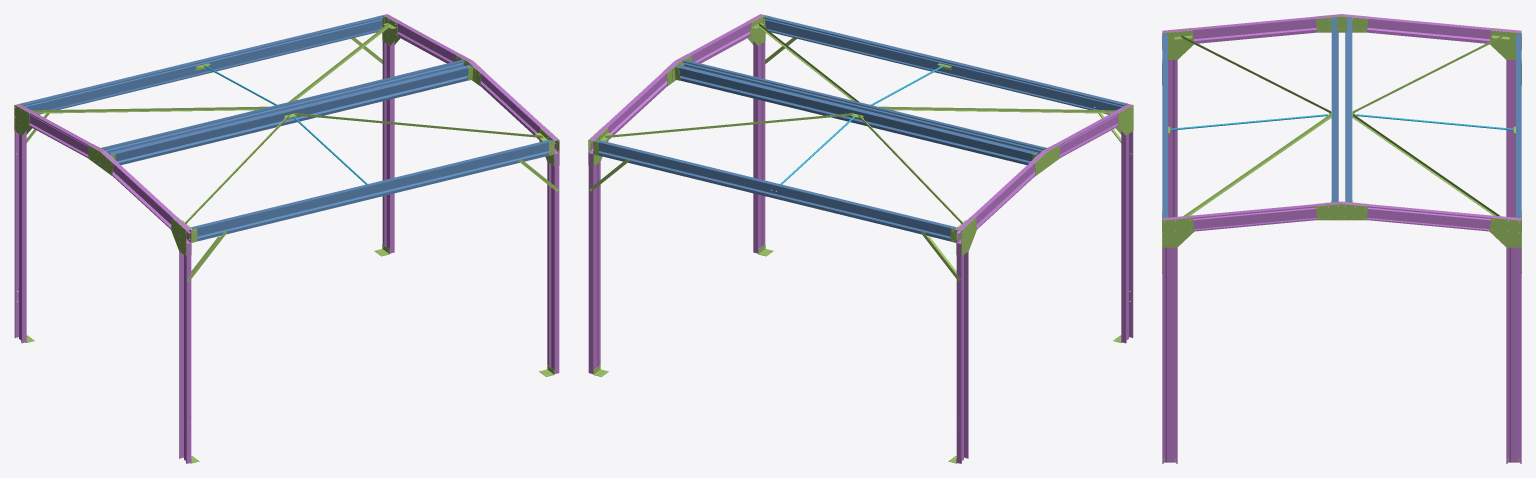
File: abri-bipente-4x5m.gltf
3 renders of one model, left to right at view 1: azimuth 30°, elevation 25°; view 2: azimuth 150°, elevation 25°; view 3: azimuth 270°, elevation 25°, orthographic. The views are drawn at different scales.
Parts seen in each view (by area): view 1: SOLID024, SOLID005, SOLID037, SOLID001, SOLID014, SOLID, SOLID044, SOLID013, SOLID023, SOLID031, SOLID002, SOLID015 (+2 smaller); view 2: SOLID005, SOLID024, SOLID044, SOLID, SOLID013, SOLID001, SOLID037, SOLID014, SOLID002, SOLID015, SOLID023, SOLID031 (+2 smaller); view 3: SOLID013, SOLID014, SOLID015, SOLID031, SOLID002, SOLID023, SOLID, SOLID001, SOLID037, SOLID044, SOLID005, SOLID024 (+12 smaller).
Boxes of the visible parts, x1,y1,x2,y2 form: SOLID024: [190, 139, 552, 241]; SOLID005: [21, 15, 383, 114]; SOLID037: [109, 64, 471, 164]; SOLID001: [179, 242, 191, 463]; SOLID014: [547, 153, 559, 373]; SOLID: [14, 125, 26, 343]; SOLID044: [101, 60, 464, 155]; SOLID013: [382, 41, 394, 253]; SOLID023: [101, 151, 191, 243]; SOLID031: [469, 61, 559, 154]; SOLID002: [15, 104, 104, 158]; SOLID015: [383, 14, 472, 63]; SOLID005: [595, 139, 957, 241]; SOLID024: [764, 15, 1126, 114]; SOLID044: [676, 64, 1038, 164]; SOLID: [956, 242, 968, 463]; SOLID013: [588, 153, 600, 373]; SOLID001: [1121, 125, 1133, 343]; SOLID037: [683, 60, 1046, 155]; SOLID014: [753, 41, 765, 253]; SOLID002: [956, 151, 1046, 243]; SOLID015: [588, 61, 678, 154]; SOLID023: [1043, 104, 1132, 158]; SOLID031: [675, 14, 764, 63]; SOLID013: [1506, 237, 1521, 463]; SOLID014: [1162, 237, 1177, 463]; SOLID015: [1342, 201, 1521, 232]; SOLID031: [1162, 201, 1341, 232]; SOLID002: [1342, 14, 1521, 44]; SOLID023: [1162, 14, 1341, 44]; SOLID: [1506, 49, 1515, 217]; SOLID001: [1168, 49, 1177, 217]; SOLID037: [1331, 17, 1338, 202]; SOLID044: [1345, 17, 1352, 202]; SOLID005: [1516, 34, 1521, 217]; SOLID024: [1162, 34, 1167, 217].
Bounding box in the file's own units: 5.01 × 3.2 × 4.01.
